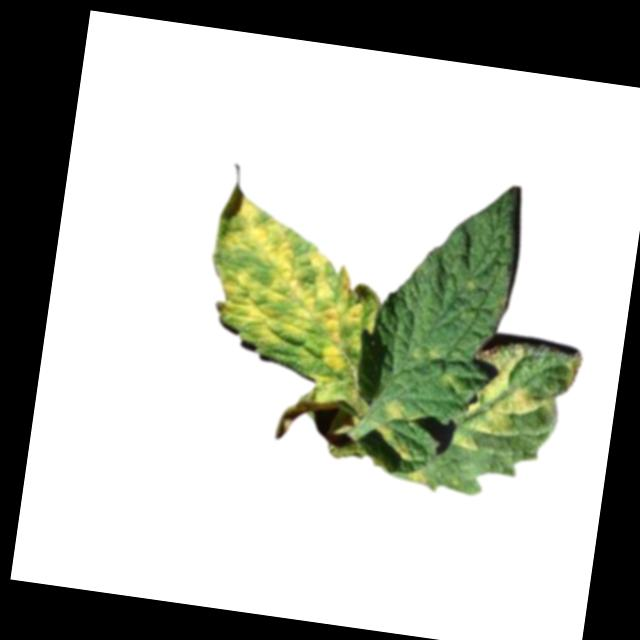Leaf_Mold: (192, 181, 389, 408), (448, 339, 545, 460), (380, 400, 427, 426), (406, 464, 432, 487), (370, 419, 398, 440), (394, 439, 417, 460)
